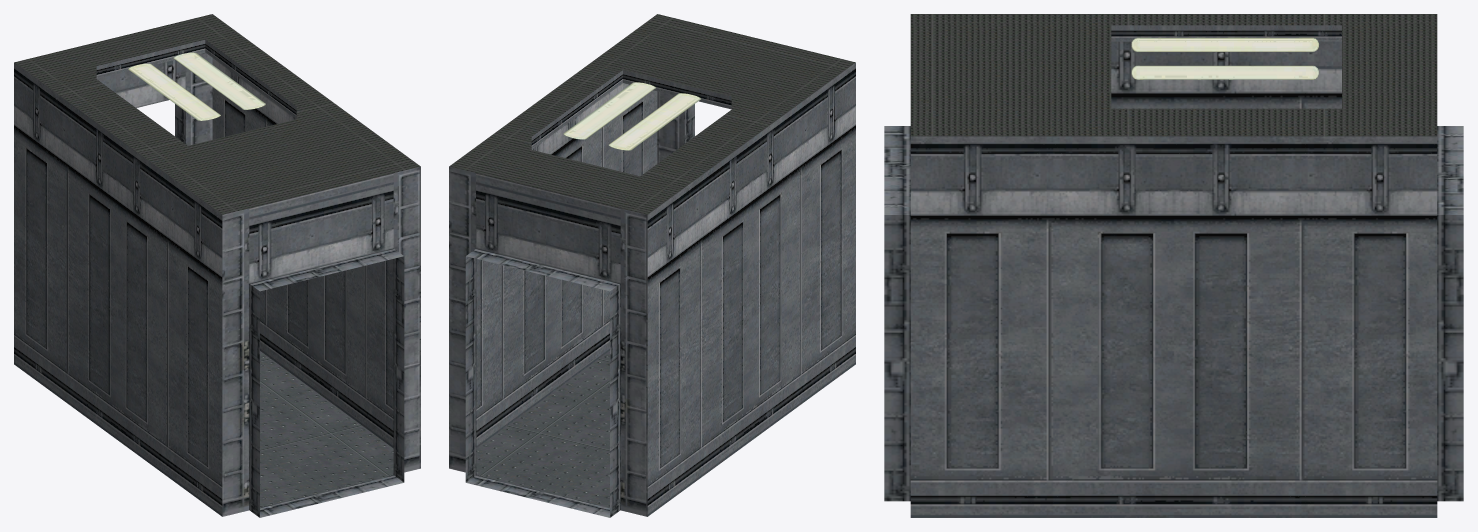
Rendered from poi_all_impl_bunker_small_outpost_s02_r1_entry_mesh_r1.fbx.
The picture shows the model from 3 angles, left to right: view 1: azimuth 30°, elevation 25°; view 2: azimuth 150°, elevation 25°; view 3: azimuth 270°, elevation 25°; orthographic projection. The views are drawn at different scales.
Parts seen in each view (by area): view 1: mesh_node; view 2: mesh_node; view 3: mesh_node.
Boxes of the visible parts, x1,y1,x2,y2 form: mesh_node: (14, 14, 420, 517); mesh_node: (449, 14, 855, 517); mesh_node: (884, 14, 1463, 517).
Bounding box in the file's own units: 2.75 × 4.17 × 5.5.
